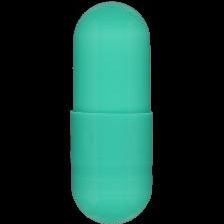0093-4029: (0, 0, 224, 224)
